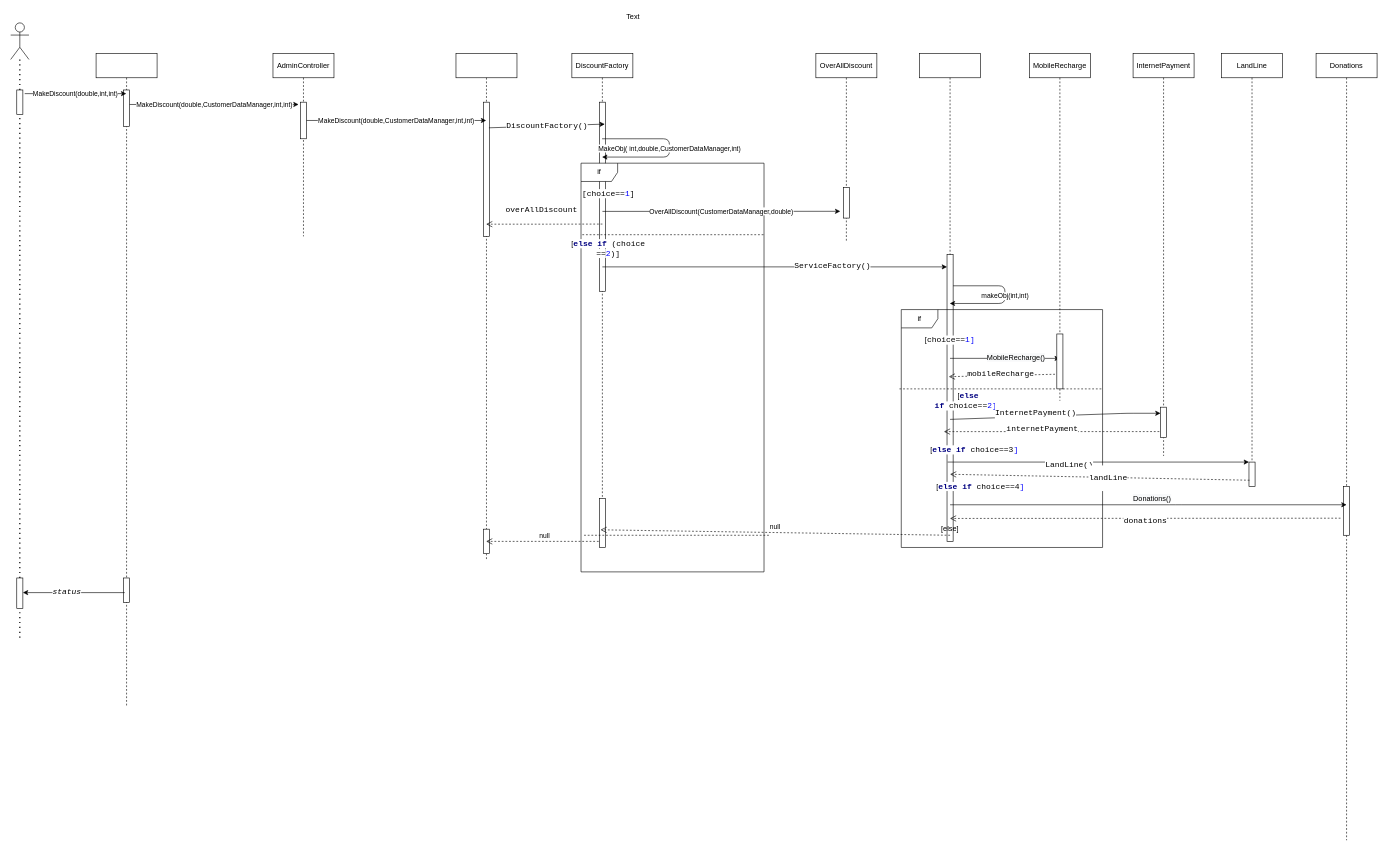
Image size: 1388x851. Some labels were removed from this diagram. The shapes that lost their labels are listed below. From the top down, each one's box as (x1, y1, x2, y2) in pixels, then its label:
(10, 22, 29, 59): Actor
(455, 53, 517, 560): Admin
(919, 53, 981, 541): ServiceFactory
(95, 53, 157, 706): MainController
